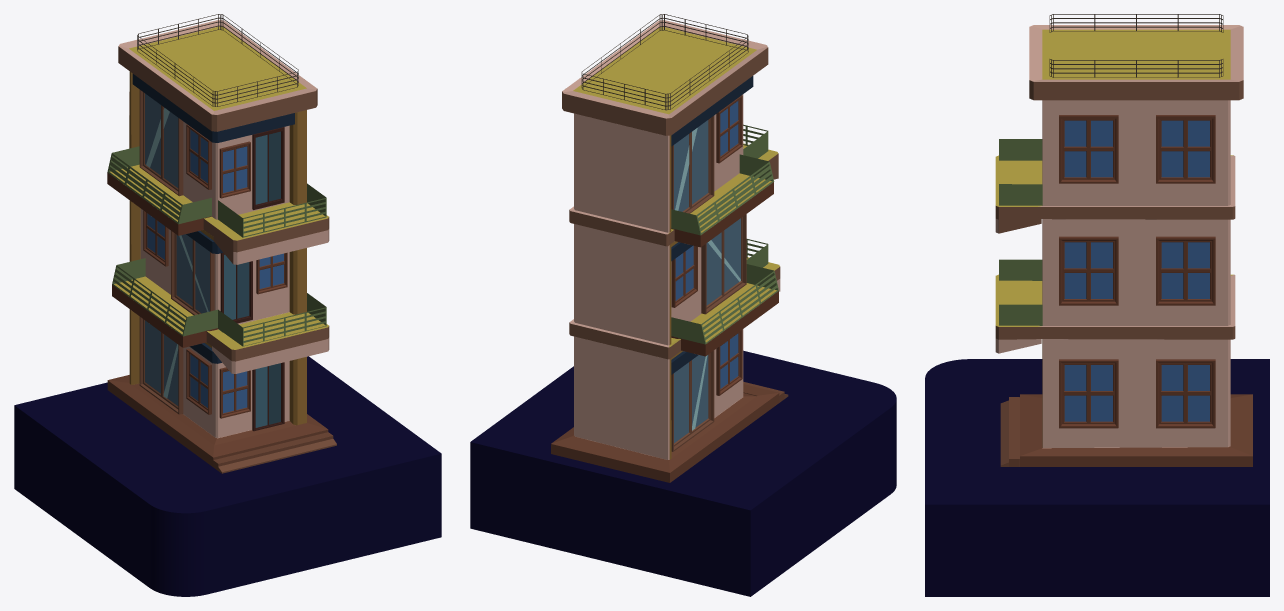
File: 3_Strg_building.glb
3 renders of one model, left to right at view 1: azimuth 30°, elevation 25°; view 2: azimuth 150°, elevation 25°; view 3: azimuth 270°, elevation 25°, orthographic. The views are drawn at different scales.
Visible parts, largest first — view 1: 2nd building, base; view 2: 2nd building, base; view 3: 2nd building, base.
Part boxes in pixels (<box>): 2nd building: <box>107,14,336,473</box>; base: <box>14,356,441,596</box>; 2nd building: <box>551,14,788,482</box>; base: <box>470,350,896,596</box>; 2nd building: <box>995,14,1252,466</box>; base: <box>925,359,1269,596</box>.
Bounding box in the file's own units: 5.06 × 7.95 × 5.06.
2 materials, 1 textured.
